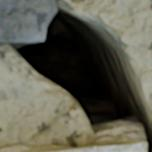brick: (0, 0, 55, 41), (0, 139, 145, 151)
crack: (2, 0, 151, 151)
